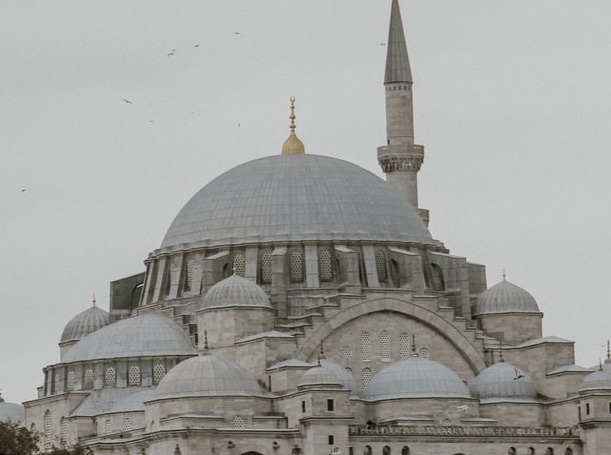Mosque: (24, 11, 602, 444)
